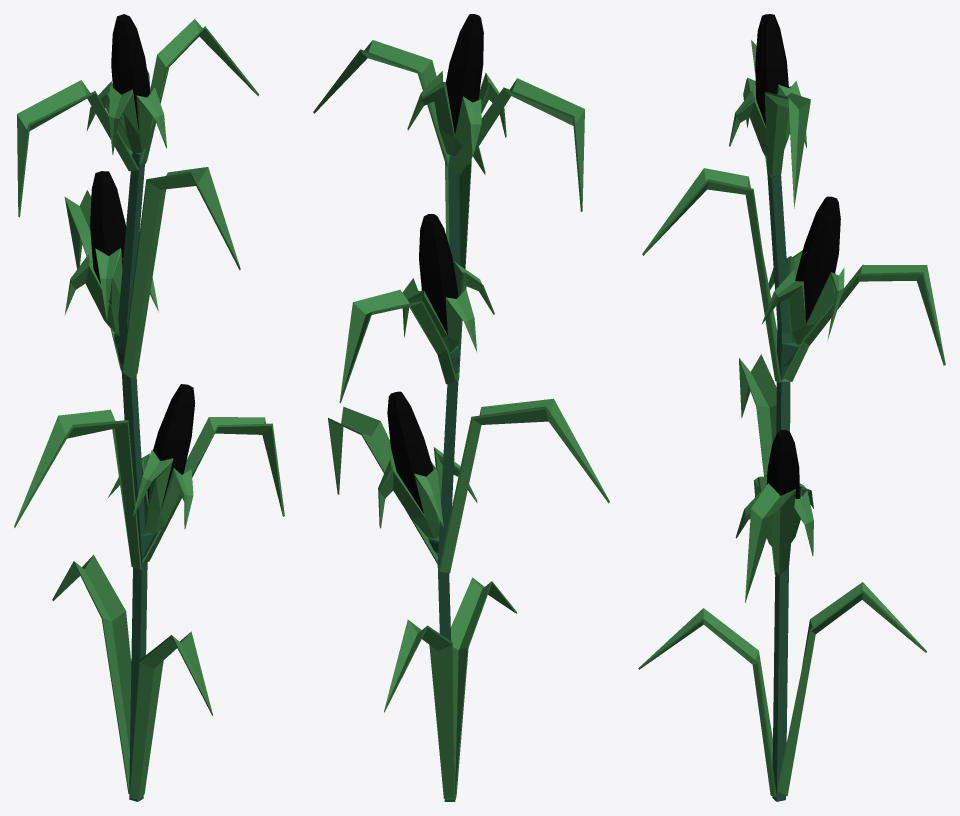
File: Corn_L_Groowing.fbx
3 renders of one model, left to right at view 1: azimuth 30°, elevation 25°; view 2: azimuth 150°, elevation 25°; view 3: azimuth 270°, elevation 25°, orthographic. The views are drawn at different scales.
Parts seen in each view (by area): view 1: Corn_L_Groowing, Corn_01, Corn_03, Corn_02; view 2: Corn_L_Groowing, Corn_01, Corn_03, Corn_02; view 3: Corn_L_Groowing, Corn_02, Corn_03, Corn_01.
Boxes of the visible parts, x1,y1,x2,y2 form: Corn_L_Groowing: (14, 19, 284, 801); Corn_01: (108, 384, 195, 533); Corn_03: (86, 14, 166, 154); Corn_02: (64, 171, 158, 332); Corn_L_Groowing: (313, 40, 609, 801); Corn_01: (378, 391, 477, 538); Corn_03: (407, 14, 506, 157); Corn_02: (402, 214, 494, 353); Corn_L_Groowing: (638, 40, 945, 801); Corn_02: (761, 196, 844, 344); Corn_03: (729, 14, 806, 158); Corn_01: (735, 430, 813, 556).
Size of the model in its own units: 52.81 by 146 by 52.64.
